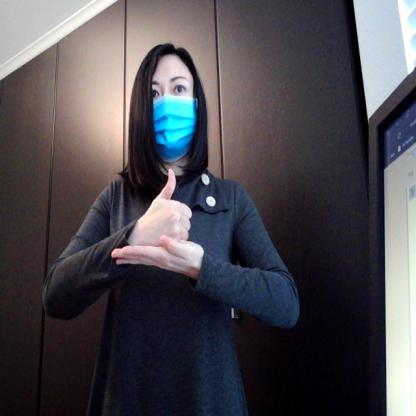help: (106, 170, 209, 283)
